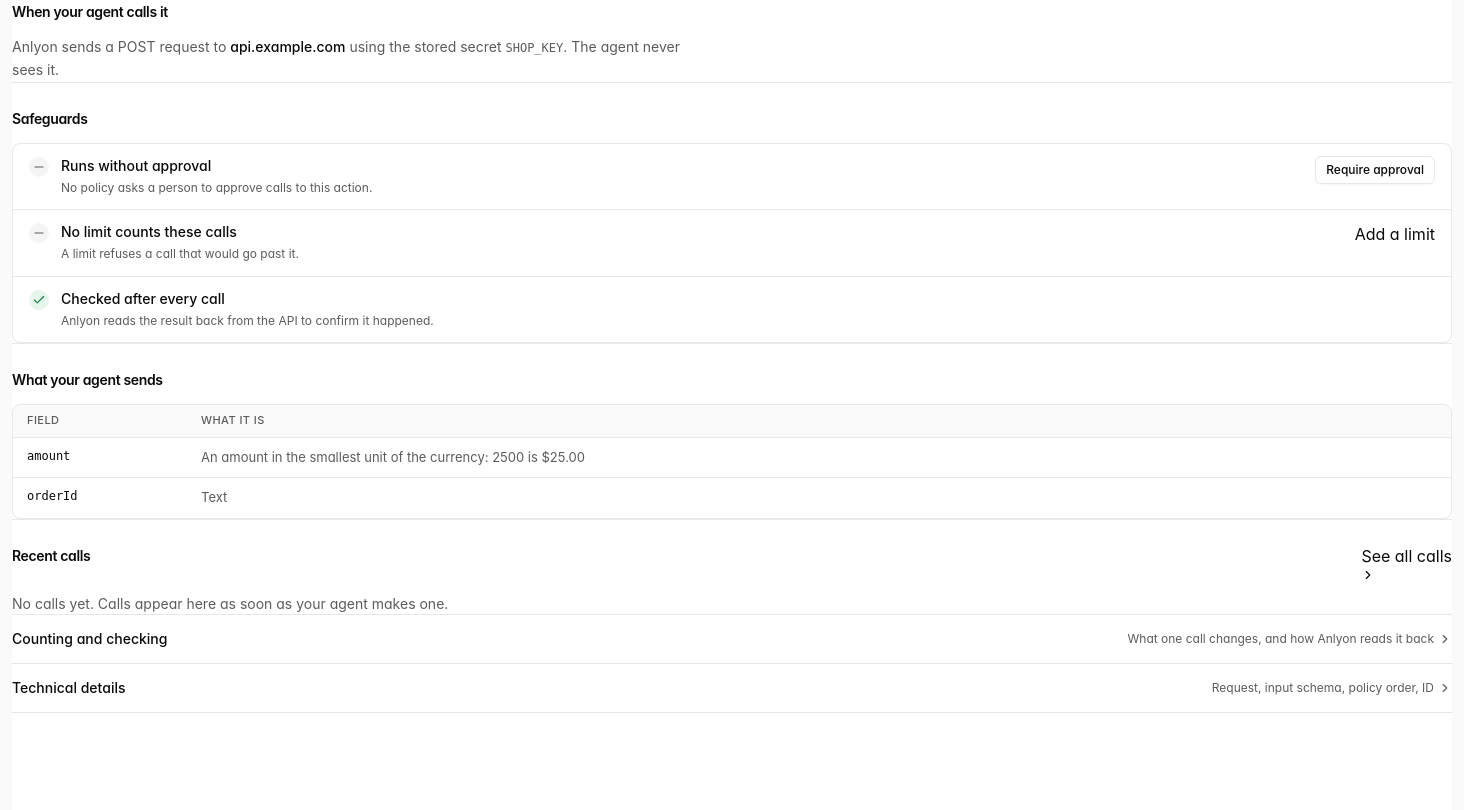
Test: Action panel › keeps the technical details one click away
Step 1. Click the button "Technical details Request, input schema, policy order, ID" → (69, 687), box left=12, top=664, right=1452, bottom=712
(page scrolled)
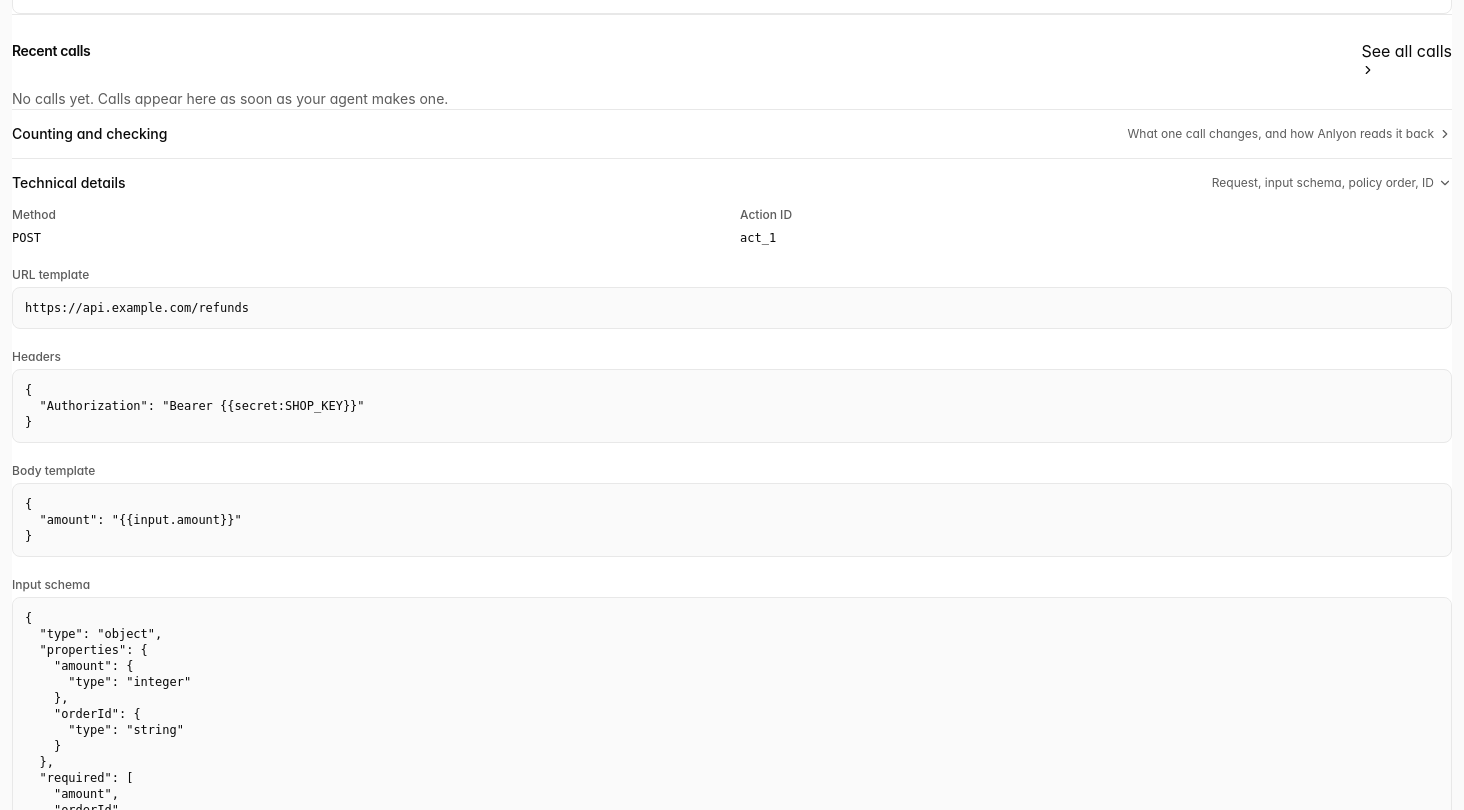
Result: the text "act_1" is shown at left=740, top=230, right=776, bottom=244
Result: the text "{ \"Authorization\": \"Bearer {{secret:SHOP_KEY}}\" }" is shown at left=12, top=368, right=1452, bottom=442
